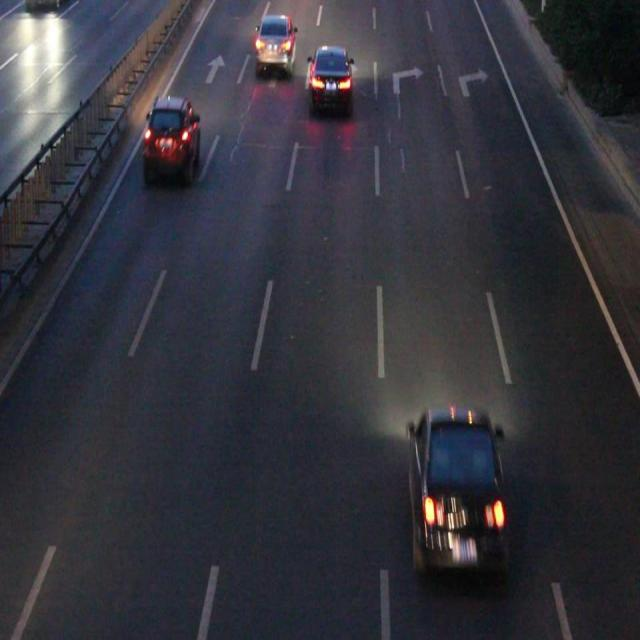car: (408, 410, 506, 570), (144, 100, 200, 178), (309, 46, 351, 110), (255, 17, 294, 73)
